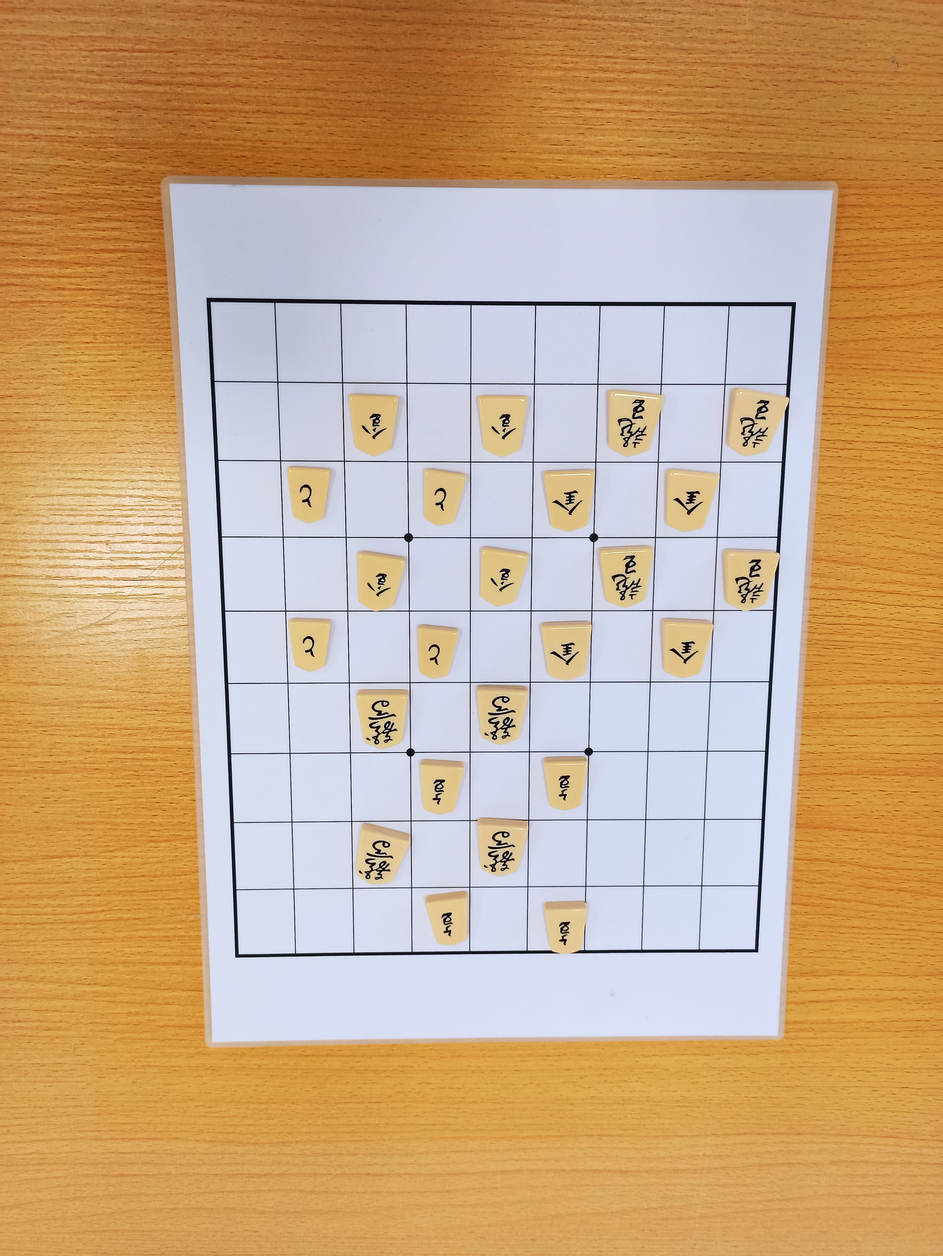board: (209, 301, 794, 956)
